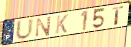1: (80, 9, 89, 32)
5: (92, 7, 107, 30)
K: (55, 14, 70, 35)
N: (35, 15, 53, 38)
T: (111, 5, 125, 26)
U: (15, 17, 35, 41)
